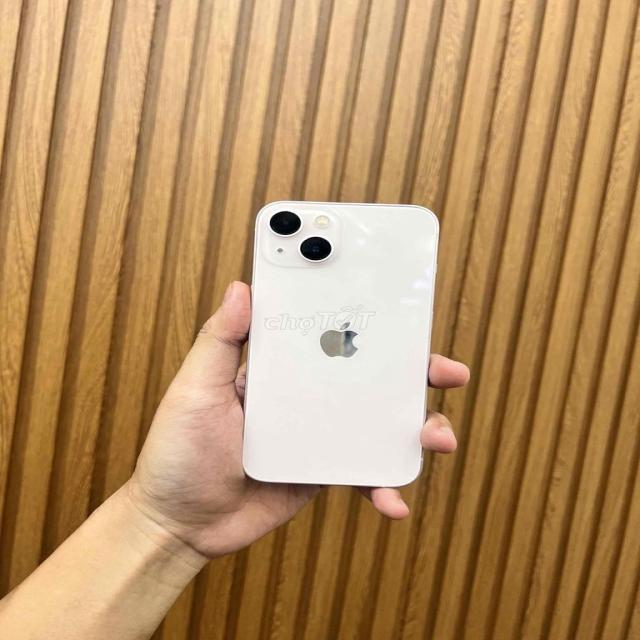gen_12_13: (243, 194, 447, 503)
